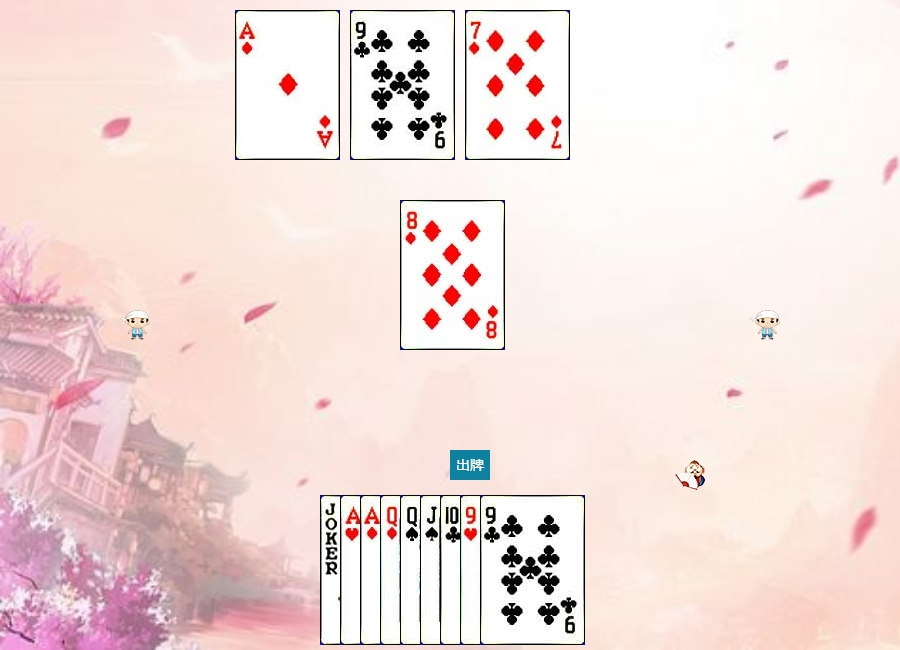10~2: (440, 495, 545, 645)
11~4: (420, 495, 525, 645)
12~1: (380, 495, 485, 645)
12~4: (400, 495, 505, 645)
14~1: (235, 10, 340, 160), (360, 495, 465, 645)
14~3: (340, 495, 445, 645)
17~3: (320, 495, 425, 645)
7~1: (465, 10, 570, 160)
8~1: (400, 200, 505, 350)
9~2: (350, 10, 455, 160), (480, 495, 585, 645)
9~3: (460, 495, 565, 645)
